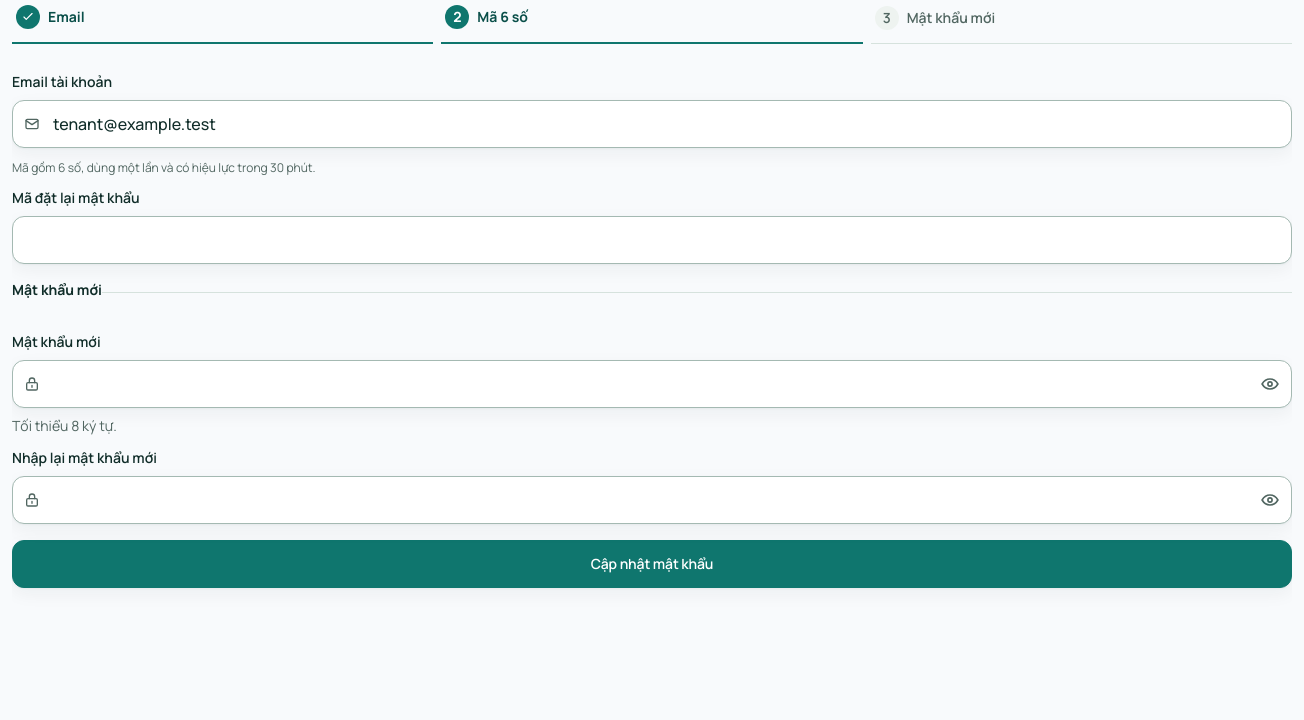
Test: password reset six-digit OTP flow › associates an invalid or expired server code with the OTP field
Type "123456" into the field named "Mã đặt lại mật khẩu (bắt buộc)" at {"x": 652, "y": 240}, box [12, 216, 1292, 264]
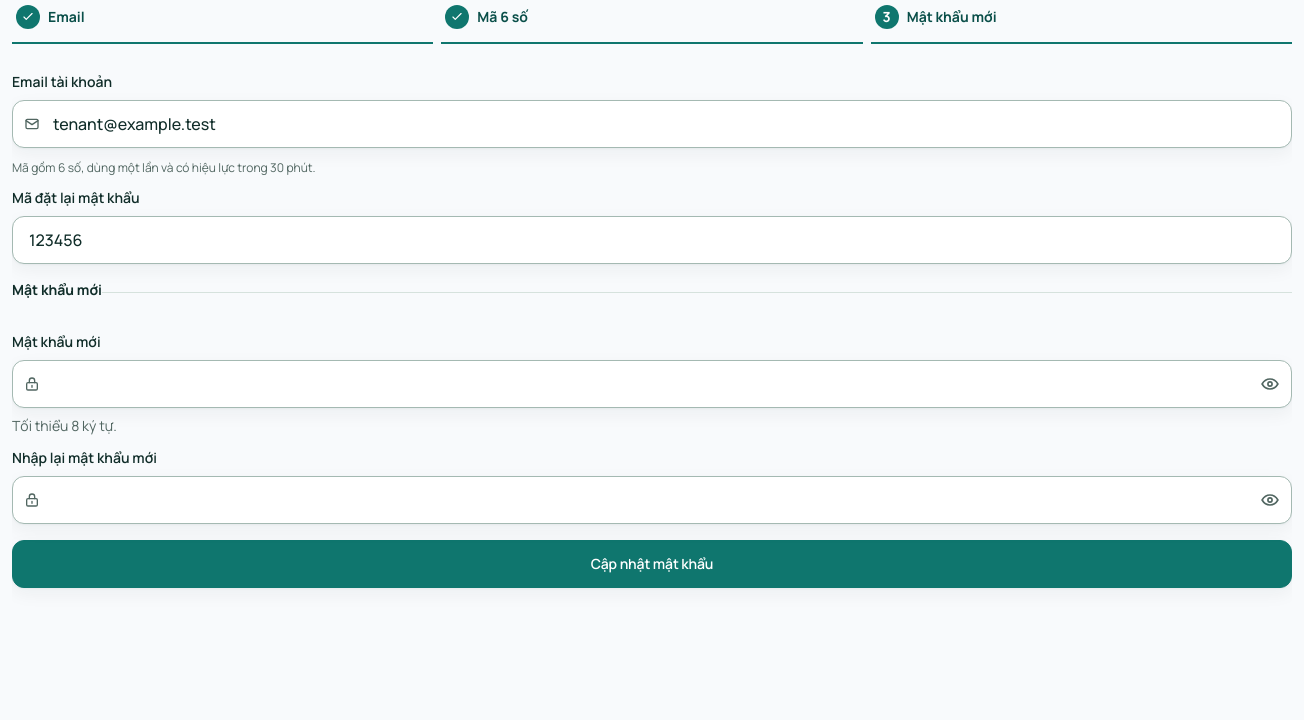
Type "new-password" into the password field named "Mật khẩu mới (bắt buộc)" at {"x": 652, "y": 384}, box [12, 360, 1292, 408]
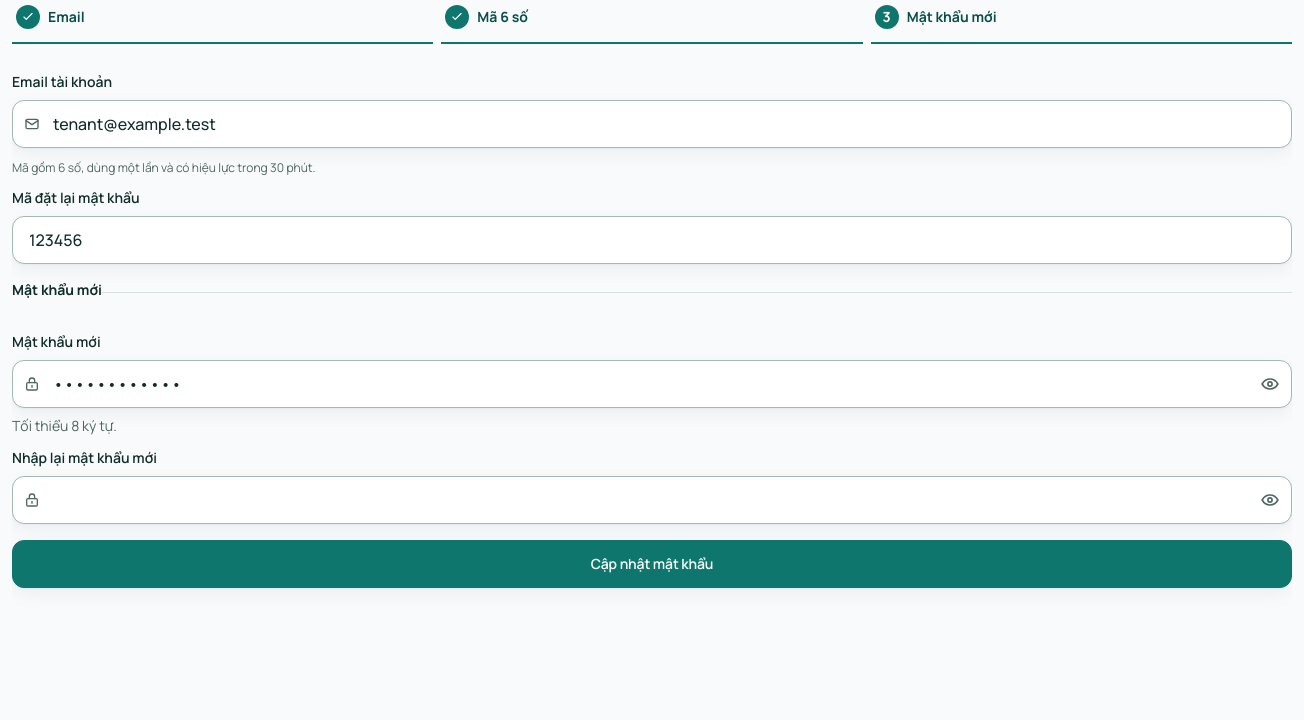
Type "new-password" into the password field named "Nhập lại mật khẩu mới (bắt buộc)" at {"x": 652, "y": 500}, box [12, 476, 1292, 524]
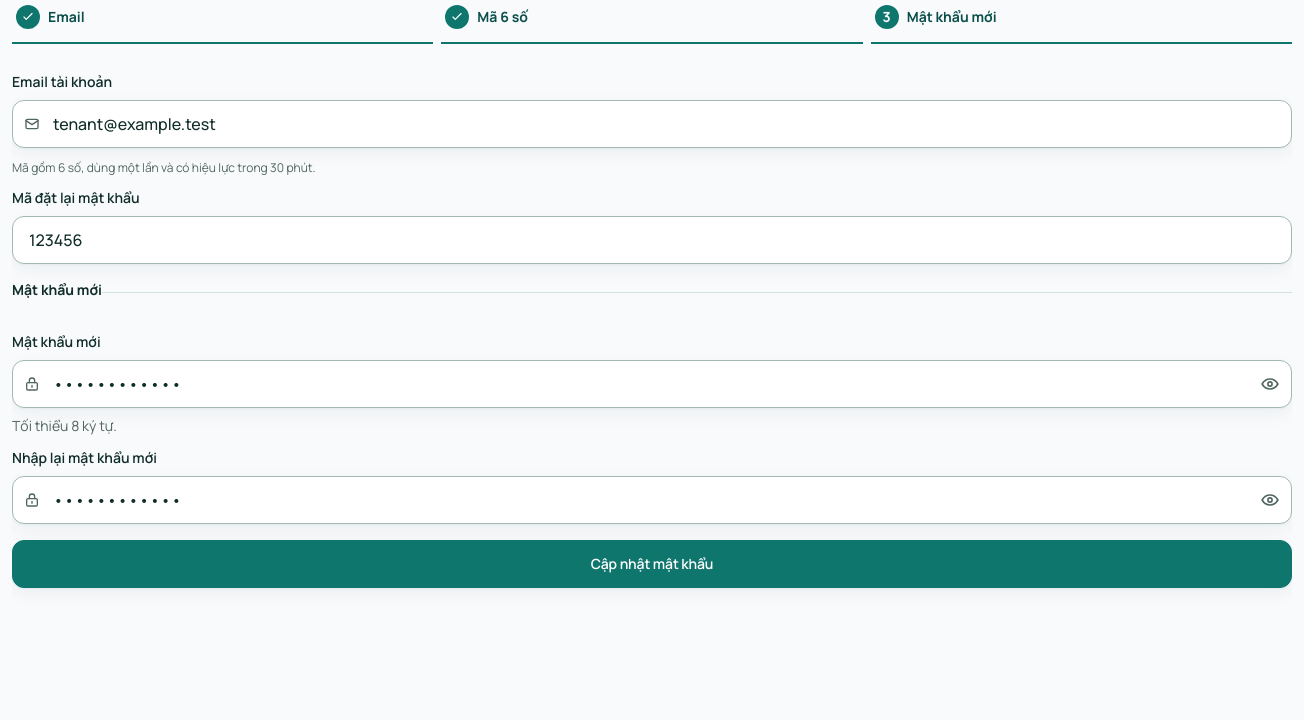
Click the button "Cập nhật mật khẩu" at {"x": 652, "y": 564}, box [12, 540, 1292, 588]
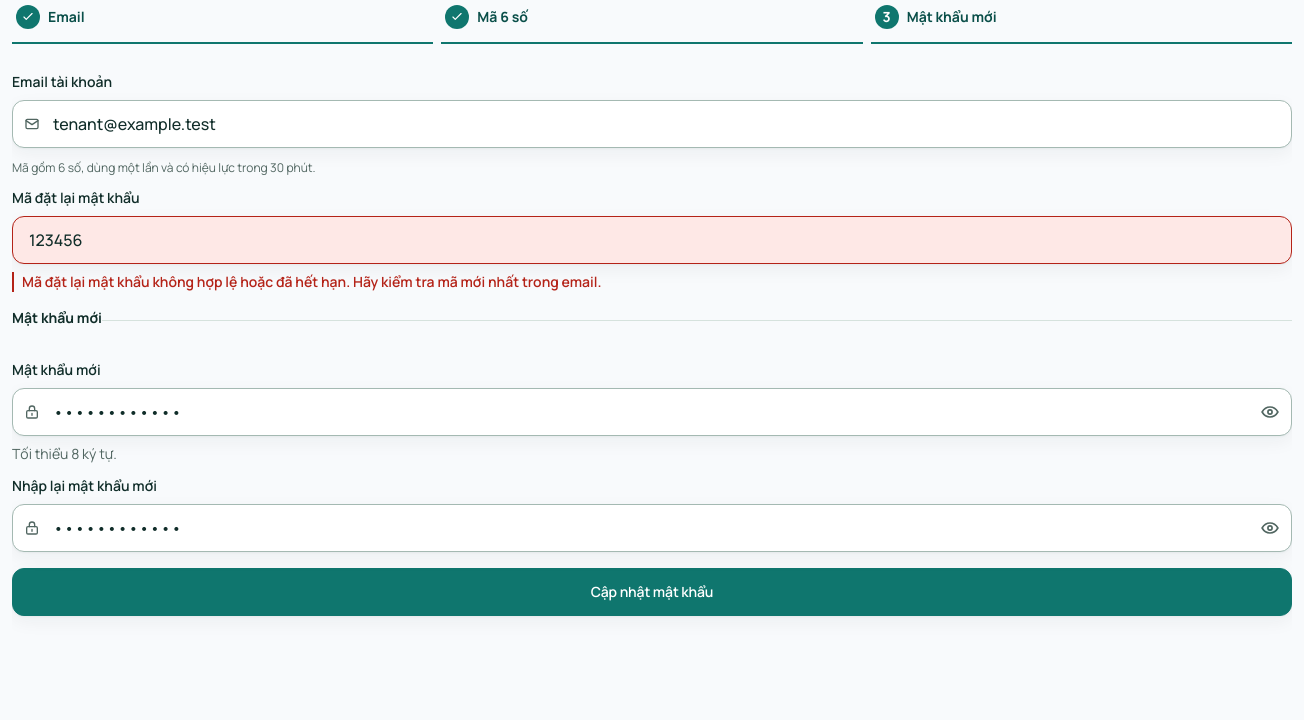
Expected: the text "Mã đặt lại mật khẩu không hợp lệ hoặc đã hết hạn. Hãy kiểm tra mã mới nhất trong email." is shown, [22, 272, 601, 291]
